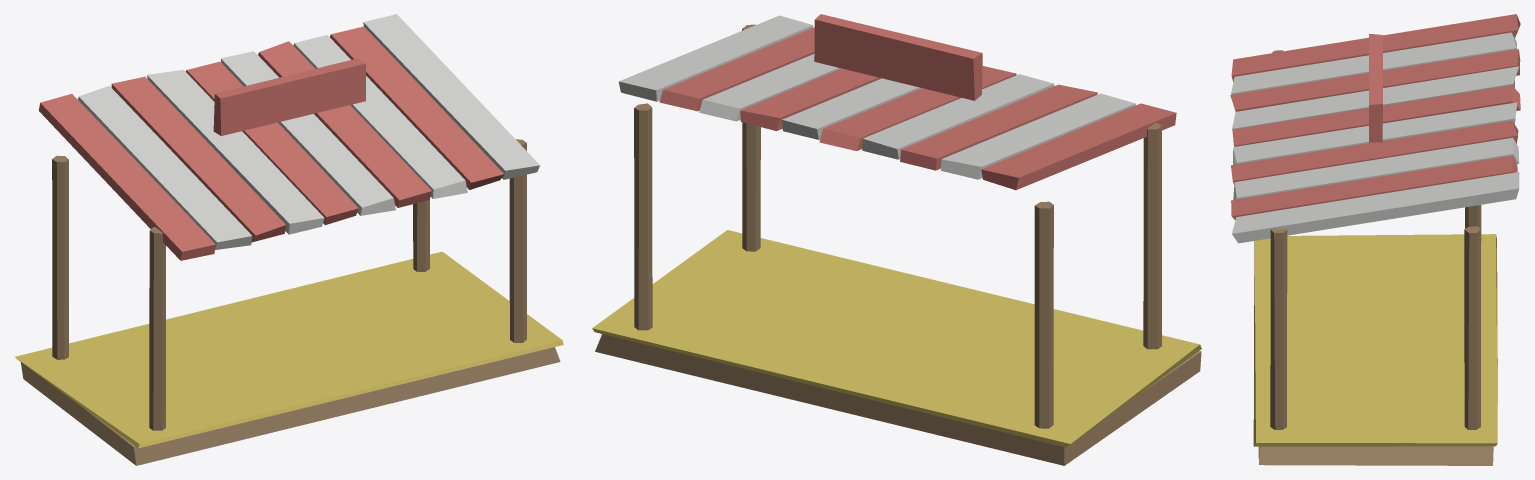
File: coasterstation.fbx
The picture shows the model from 3 angles, left to right: view 1: azimuth 30°, elevation 25°; view 2: azimuth 150°, elevation 25°; view 3: azimuth 270°, elevation 25°; orthographic projection. The views are drawn at different scales.
Parts seen in each view (by area): view 1: CoasterStation; view 2: CoasterStation; view 3: CoasterStation.
Part boxes in pixels (box(x1,y1,x2,y2)): CoasterStation: box(15, 14, 563, 465); CoasterStation: box(592, 14, 1201, 465); CoasterStation: box(1230, 14, 1520, 465).
Size of the model in its own units: 7.14 by 4.66 by 4.19.
